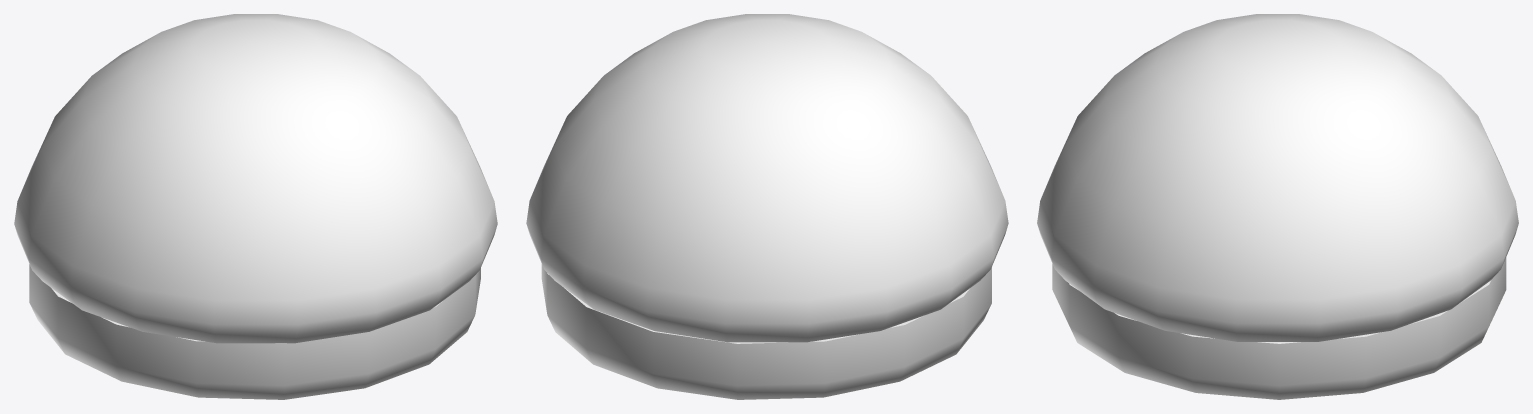
The model's file is Burger_bun_without_sesame.fbx.
3 views of the same model, side by side, from view 1: azimuth 30°, elevation 25°; view 2: azimuth 150°, elevation 25°; view 3: azimuth 270°, elevation 25° (orthographic).
Parts seen in each view (by area): view 1: Burger_bun_without_sesame; view 2: Burger_bun_without_sesame; view 3: Burger_bun_without_sesame.
Part boxes in pixels (x1,y1,x2,y2): Burger_bun_without_sesame: (14, 14, 497, 399); Burger_bun_without_sesame: (526, 14, 1008, 399); Burger_bun_without_sesame: (1037, 14, 1518, 399).
Size of the model in its own units: 128 by 80.74 by 130.
